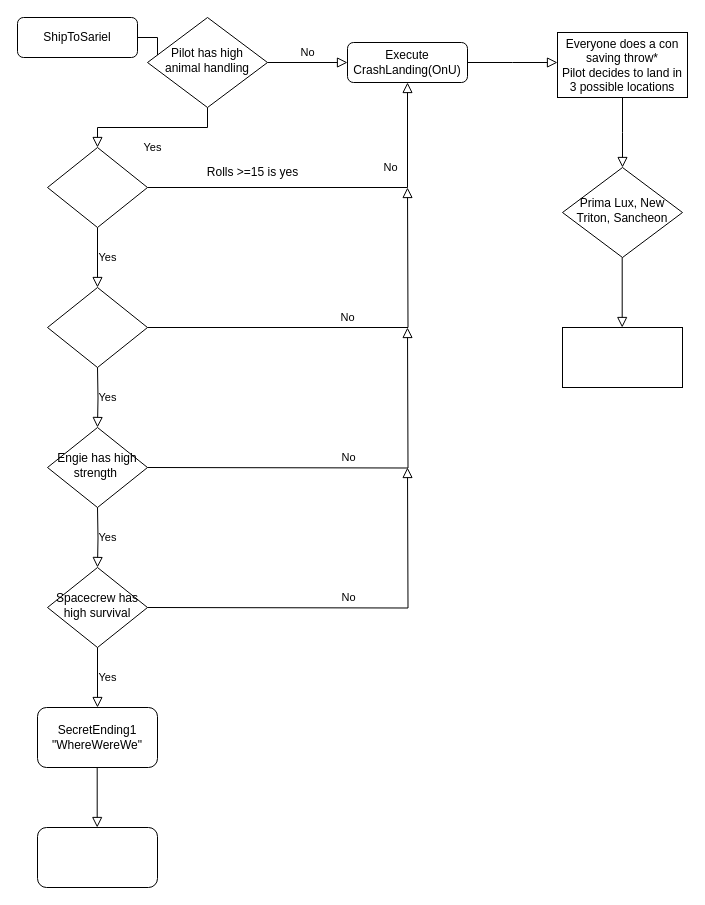
Image size: 705x905. Some labels were removed from this diagram. The centre of each missing label's shape, as x and y in pixels:
Enter Act 1: point (622, 357)
Gunman has high SoH: point (97, 187)
Medic has high medicine: point (97, 327)
Return to Story: point (97, 857)
